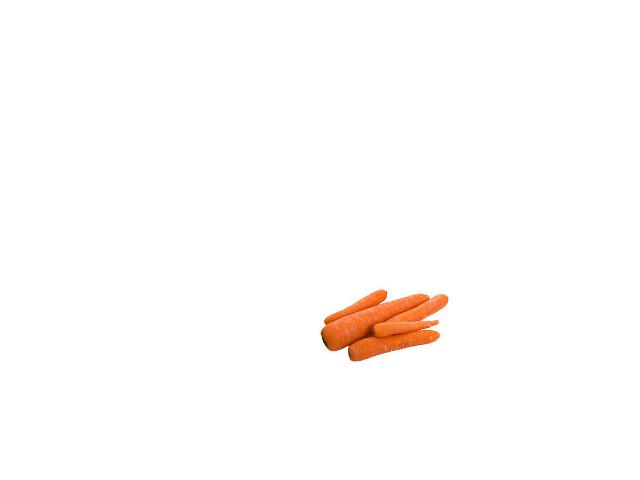carrot: (344, 334, 443, 357)
